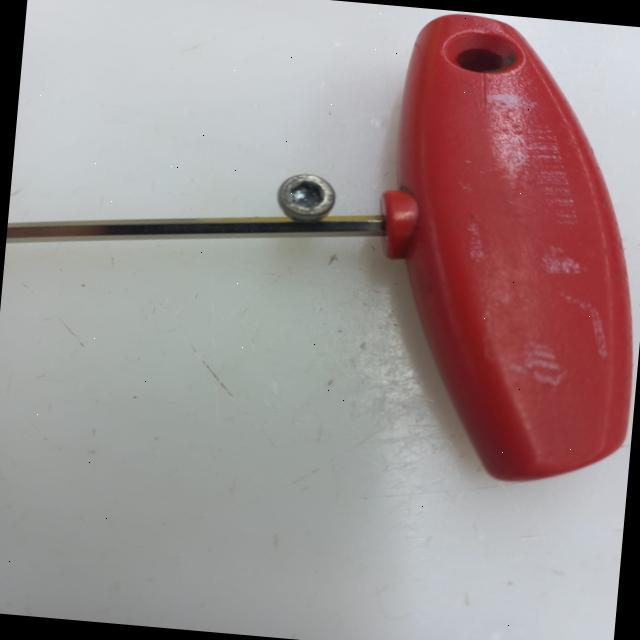Hex Socket Allen: (276, 171, 336, 222)
